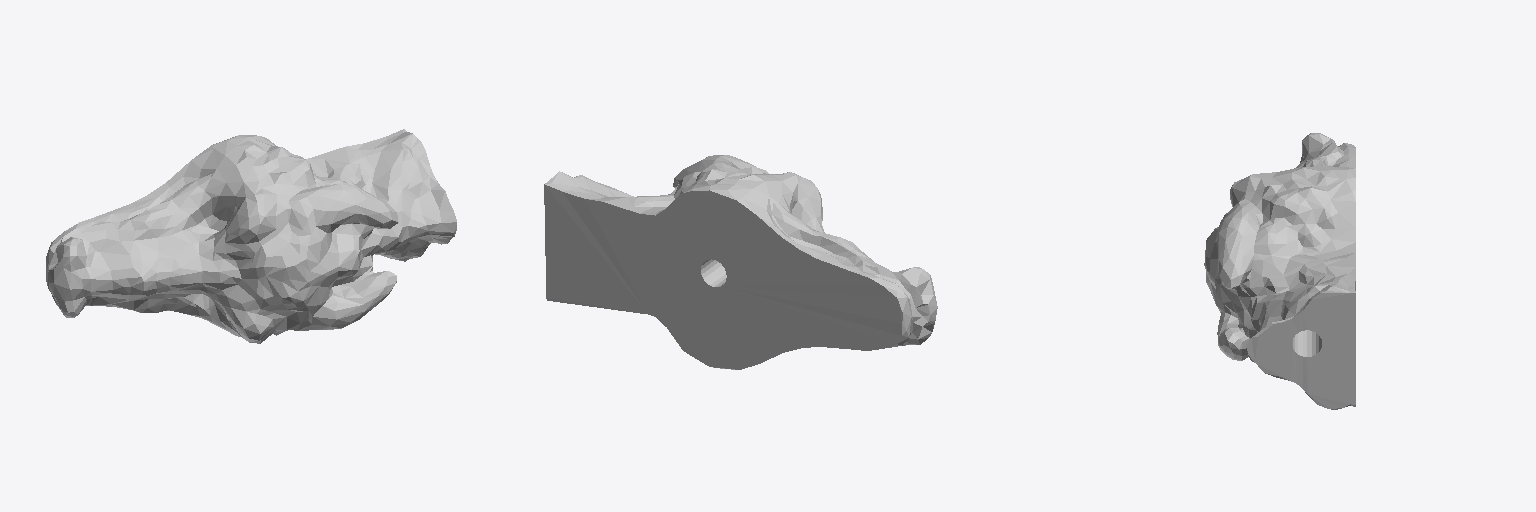
Rendered from 80757-dragon_head_QEM_90pct.obj.
The picture shows the model from 3 angles: view 1: azimuth 30°, elevation 25°; view 2: azimuth 150°, elevation 25°; view 3: azimuth 270°, elevation 25°; orthographic projection.
Bounding box in the file's own units: 0.9998 × 0.4596 × 0.3519.